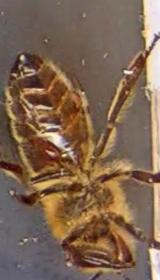varroa_mite: (27, 130, 62, 164)
